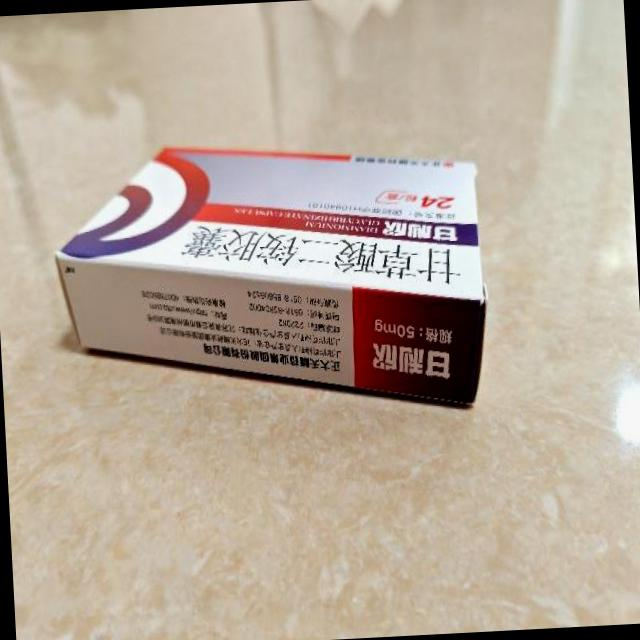box: (51, 128, 493, 430)
